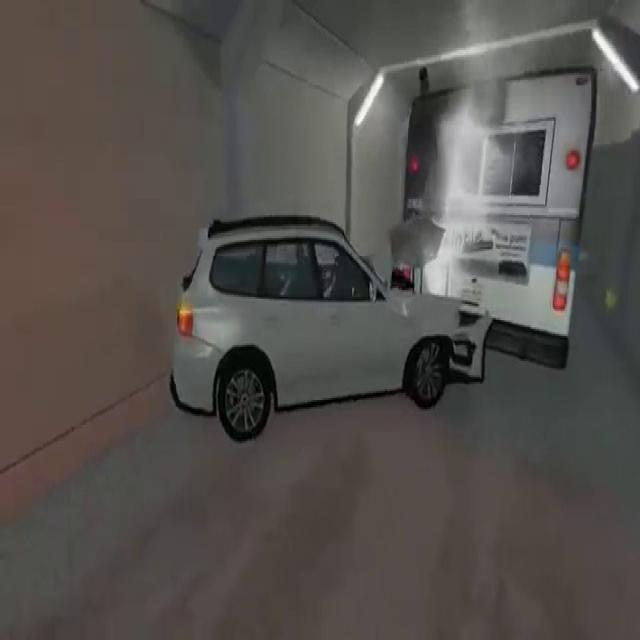severe: (165, 58, 606, 449)
